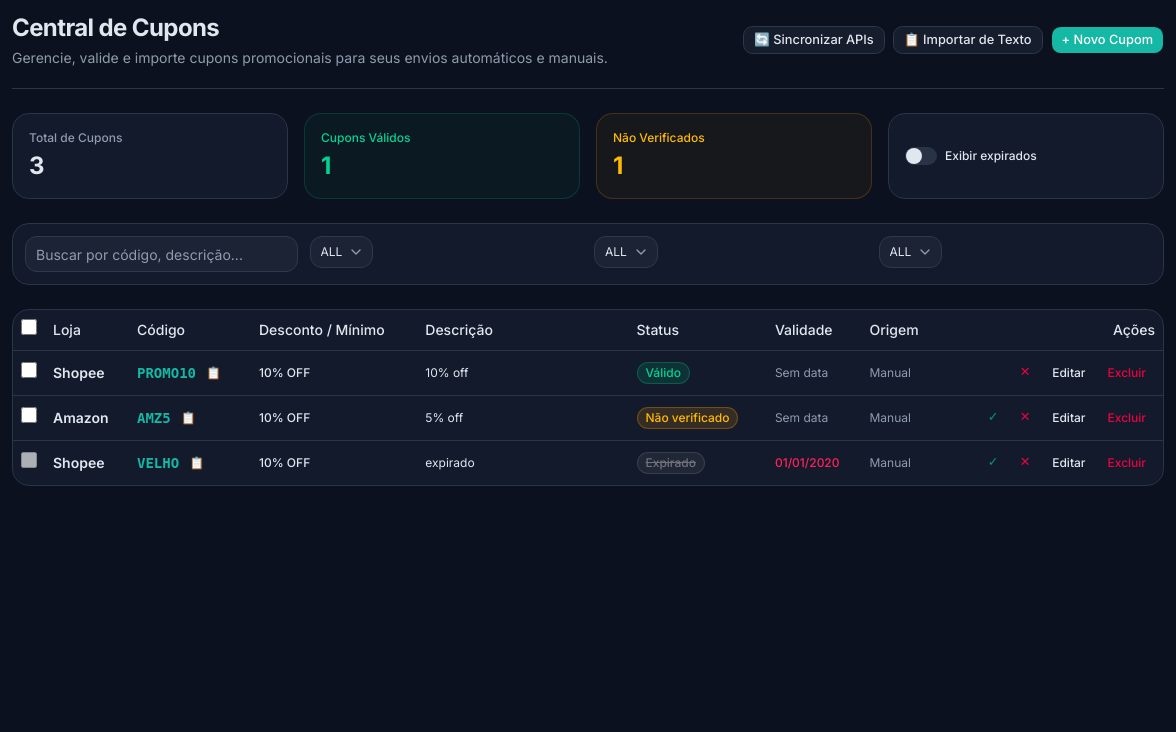
Test case: seleção e despacho de cupons › mantém o aviso de ignorados depois que a barra some
Expected: the text "PROMO10" is shown, [137,362,196,382]
Click the checkbox named "Selecionar cupom PROMO10": (29, 370) [21,362,37,378]
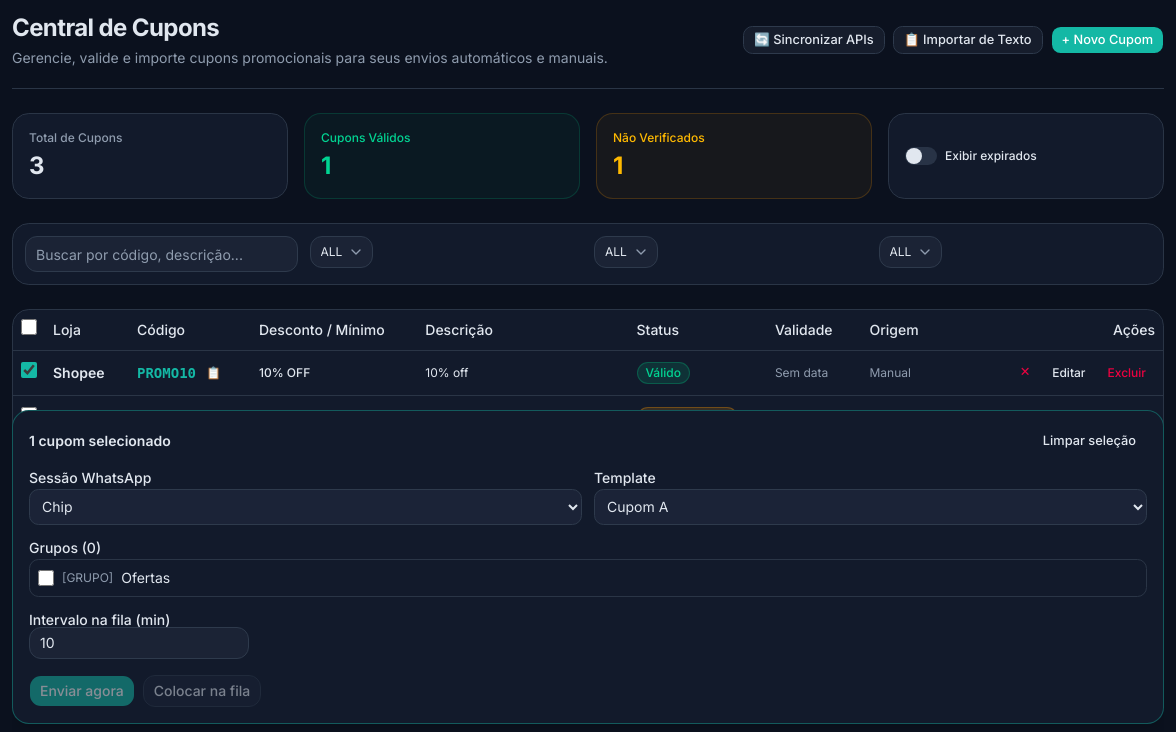
Click the checkbox labelled "[GRUPO] Ofertas": (46, 578) [38,570,54,586]
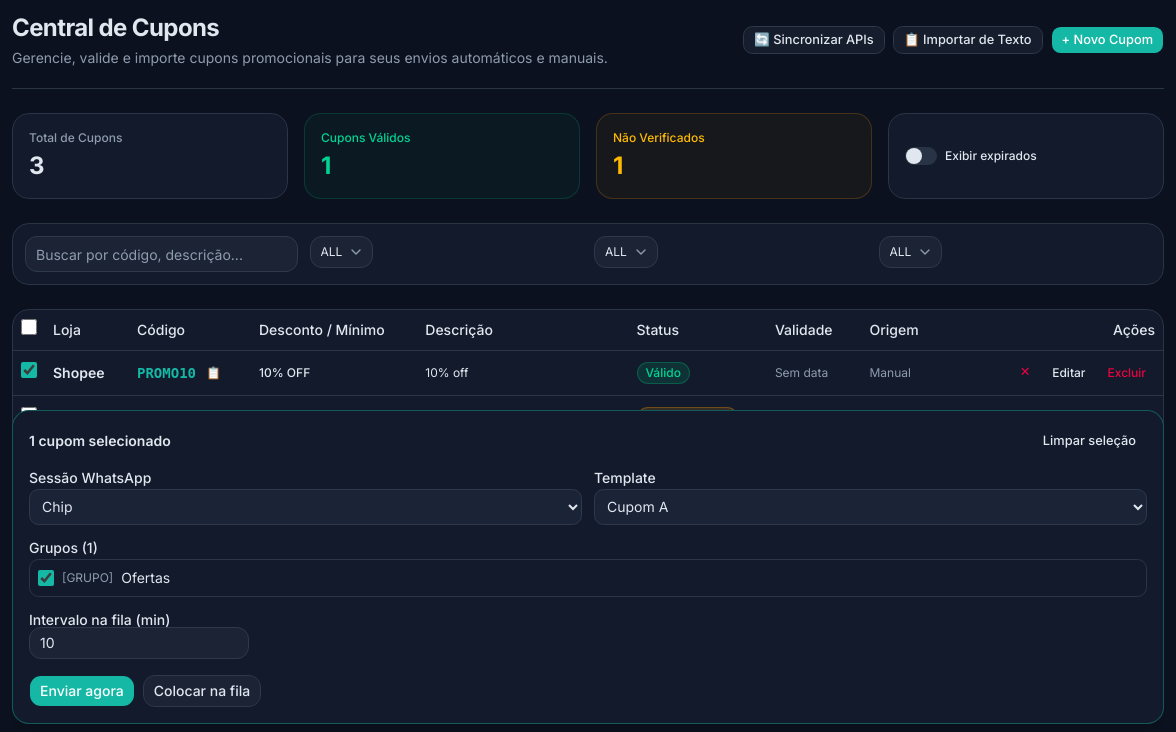
Result: the button "Colocar na fila" is enabled
Click the button "Colocar na fila": (202, 691) [143,675,261,707]
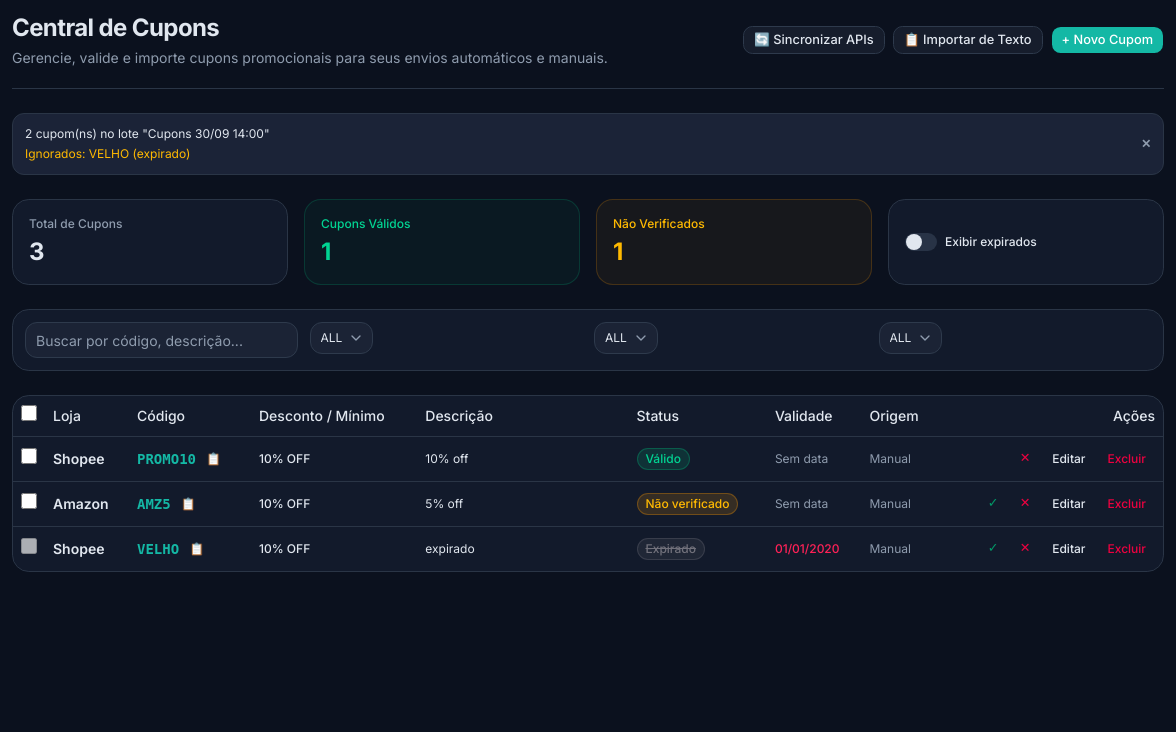
Result: the text "Ignorados: VELHO (expirado)" is shown at [25,146,190,161]
Result: the text "selecionado" is gone
